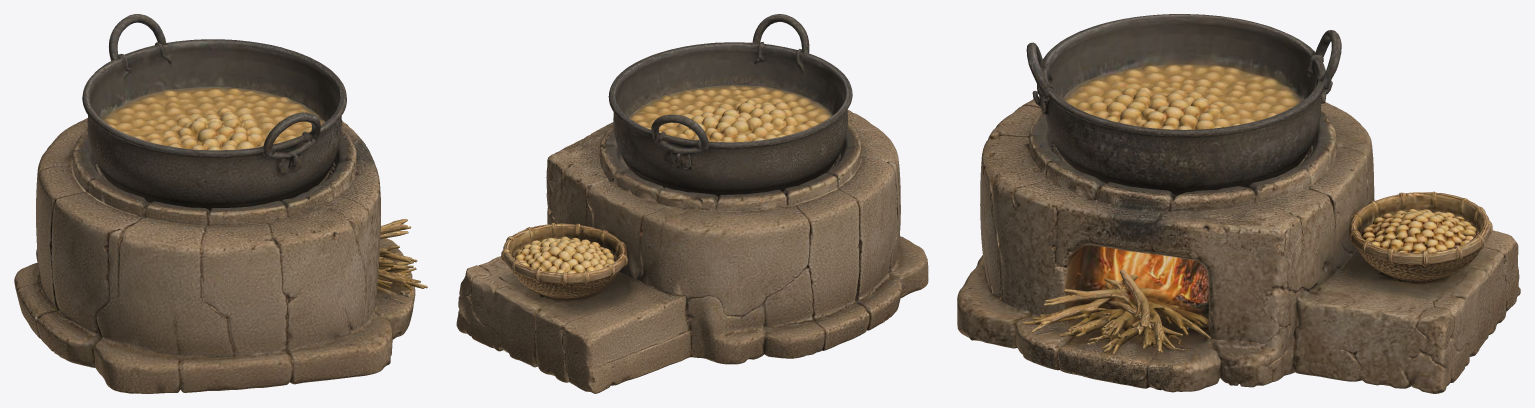
3 renders of one model, left to right at view 1: azimuth 30°, elevation 25°; view 2: azimuth 150°, elevation 25°; view 3: azimuth 270°, elevation 25°, orthographic. The views are drawn at different scales.
Visible parts, largest first — view 1: tripo_node_8c903616-6f59-4d9e-ba35-8244df5eda87; view 2: tripo_node_8c903616-6f59-4d9e-ba35-8244df5eda87; view 3: tripo_node_8c903616-6f59-4d9e-ba35-8244df5eda87.
Part boxes in pixels (x1,y1,x2,y2): tripo_node_8c903616-6f59-4d9e-ba35-8244df5eda87: (14, 14, 427, 393); tripo_node_8c903616-6f59-4d9e-ba35-8244df5eda87: (456, 14, 928, 393); tripo_node_8c903616-6f59-4d9e-ba35-8244df5eda87: (957, 14, 1520, 393).
Bounding box in the file's own units: 0.8015 × 0.5357 × 1.04.
1 material, 1 textured.
